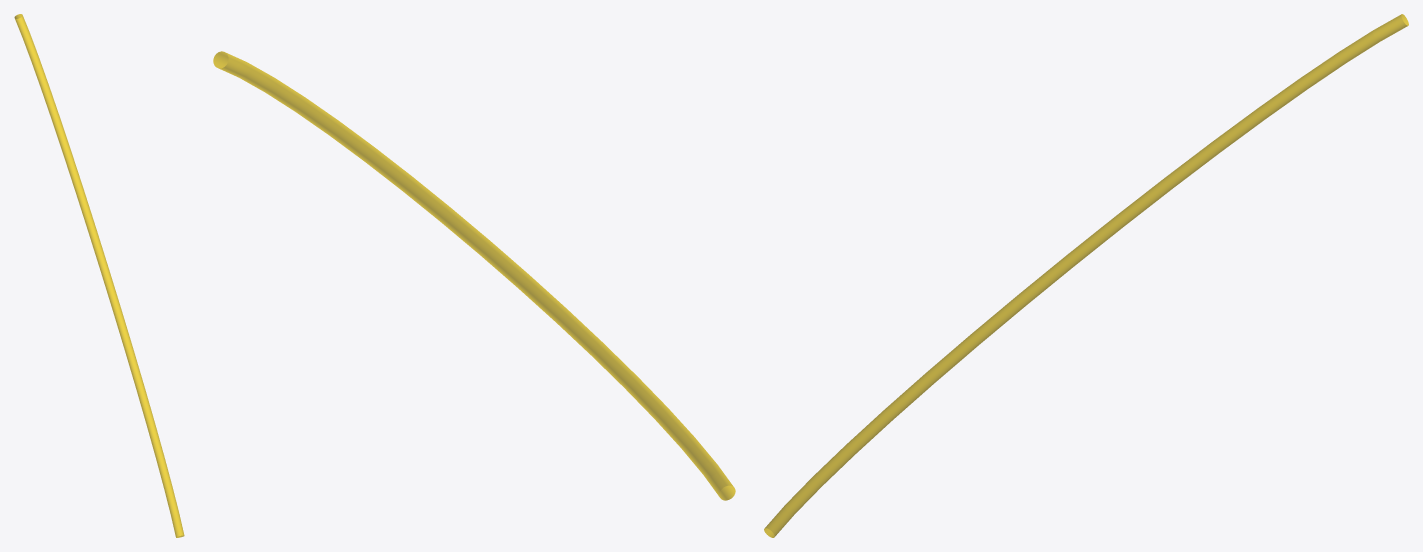
The model's file is Event_75125125_track_12.fbx.
3 renders of one model, left to right at view 1: azimuth 30°, elevation 25°; view 2: azimuth 150°, elevation 25°; view 3: azimuth 270°, elevation 25°, orthographic. The views are drawn at different scales.
Parts seen in each view (by area): view 1: Model; view 2: Model; view 3: Model.
Part boxes in pixels (x1,y1,x2,y2): Model: (14,14,184,537); Model: (213,51,735,500); Model: (764,14,1408,537).
Bounding box in the file's own units: 0.2801 × 1.82 × 1.91.
